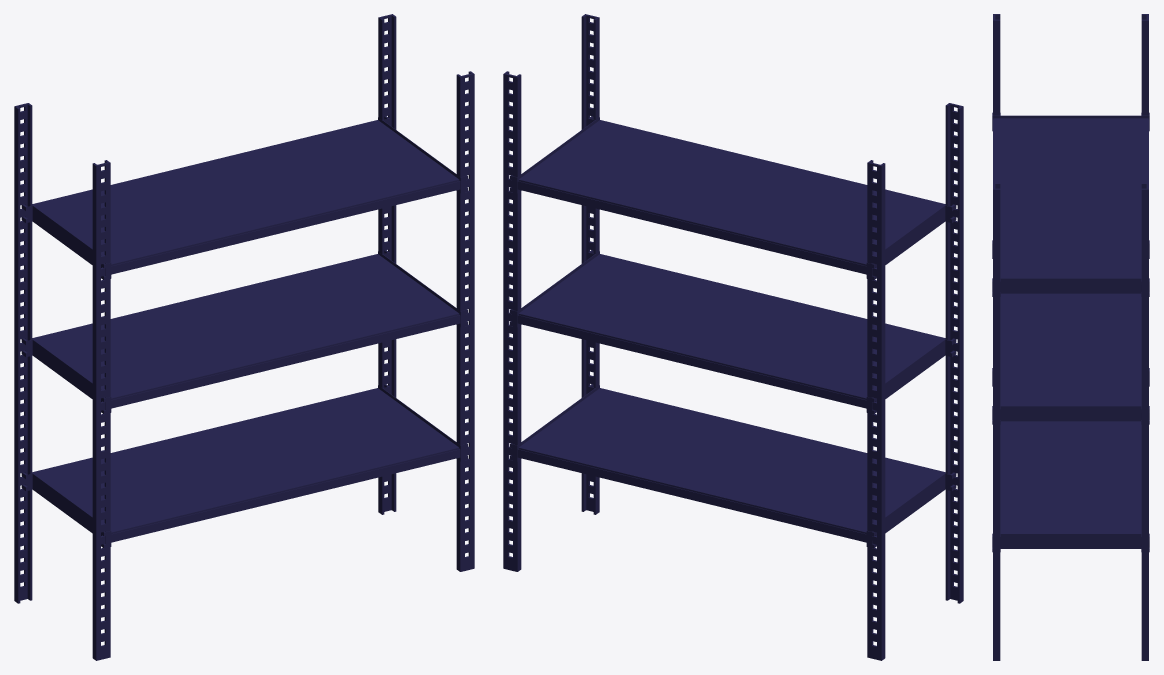
The model's file is rayonnage_S.FBX.
The picture shows the model from 3 angles, left to right: view 1: azimuth 30°, elevation 25°; view 2: azimuth 150°, elevation 25°; view 3: azimuth 270°, elevation 25°; orthographic projection. The views are drawn at different scales.
Parts seen in each view (by area): view 1: etagere_S; view 2: etagere_S; view 3: etagere_S.
Part boxes in pixels (<box>): etagere_S: <box>14,14,474,660</box>; etagere_S: <box>503,14,963,660</box>; etagere_S: <box>992,14,1149,660</box>.
Size of the model in its own units: 62.99 by 78.74 by 23.78.
